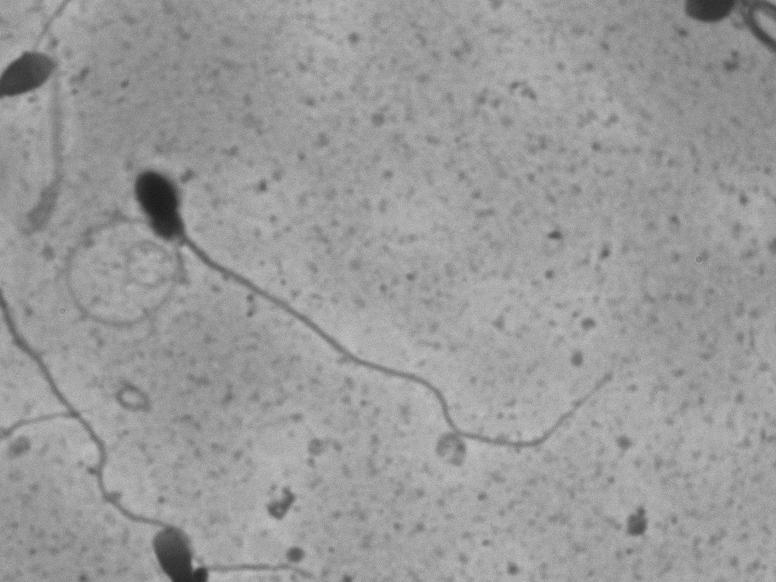Abnormal: (116, 137, 623, 488)
